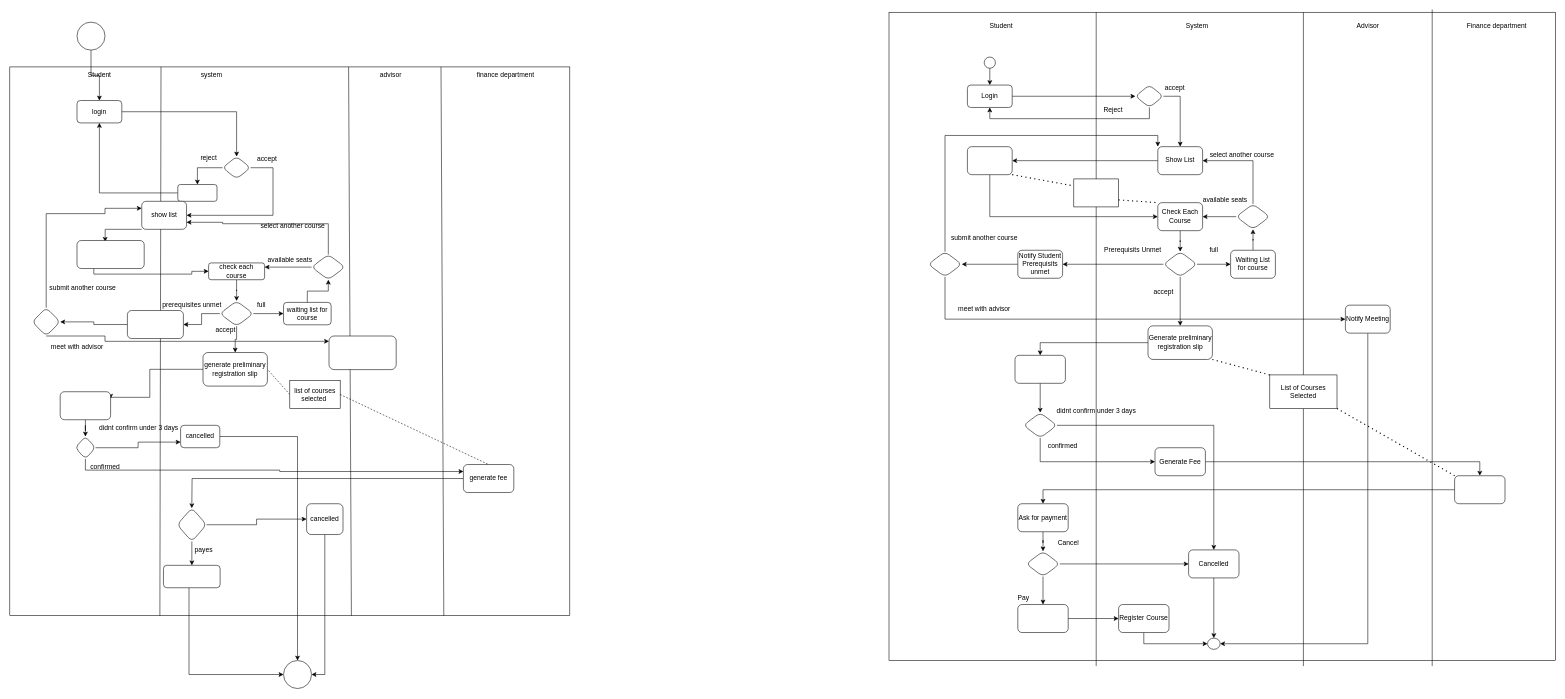
Image size: 1565x699. Some labels were removed from this diagram. The shapes that lost their labels are listed below. From the top down, each one's centre as x and y in pixels, then its label:
point (989, 160): Submit Courses
point (197, 192): reject login
point (1096, 192): List of Courses
point (110, 254): submit course
point (155, 324): notify student prerequisites unmet
point (362, 352): prepare a meeting with academic advisor
point (1039, 369): Confirmation Slip
point (85, 405): confirm the slip
point (1479, 489): Generate Bill/Invoice
point (191, 576): send confimation
point (1042, 618): Confirm Course
